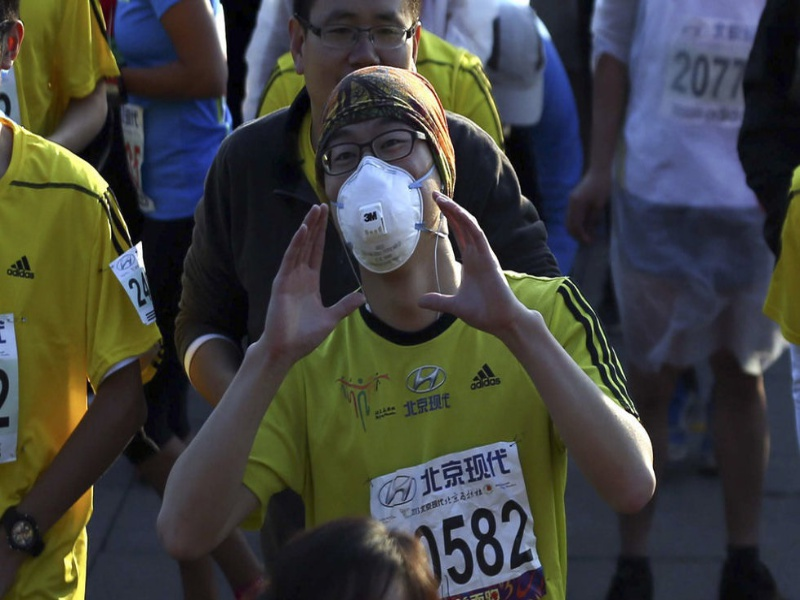mask: (294, 64, 469, 278)
